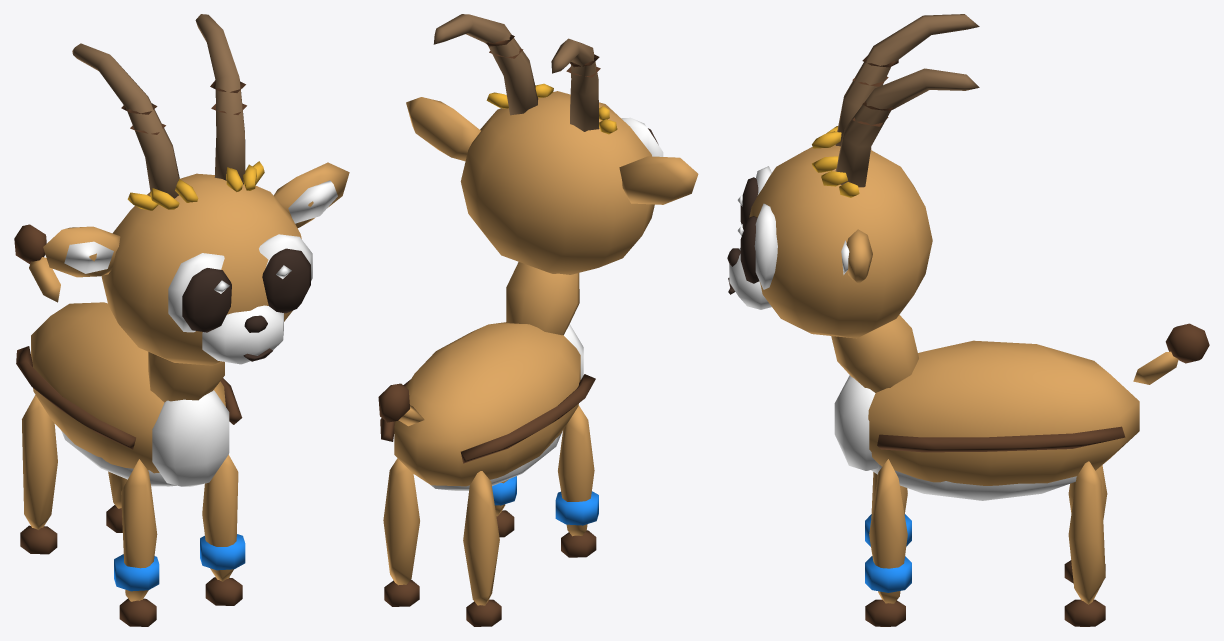
The model's file is compagnon_gazelle.fbx.
3 views of the same model, side by side, from view 1: azimuth 30°, elevation 25°; view 2: azimuth 150°, elevation 25°; view 3: azimuth 270°, elevation 25° (orthographic). The views are drawn at different scales.
Parts seen in each view (by area): view 1: compagnon_gazelle_Fauve, compagnon_gazelle_Blanc, compagnon_gazelle_Cornes, compagnon_gazelle_Brun, compagnon_gazelle_Yeux, compagnon_gazelle_Bandeaux, compagnon_gazelle_Or; view 2: compagnon_gazelle_Fauve, compagnon_gazelle_Brun, compagnon_gazelle_Cornes, compagnon_gazelle_Bandeaux, compagnon_gazelle_Blanc, compagnon_gazelle_Or; view 3: compagnon_gazelle_Fauve, compagnon_gazelle_Cornes, compagnon_gazelle_Blanc, compagnon_gazelle_Brun, compagnon_gazelle_Yeux, compagnon_gazelle_Bandeaux, compagnon_gazelle_Or.
Boxes of the visible parts, x1=… form: compagnon_gazelle_Fauve: x1=22, y1=162, x2=349, y2=601; compagnon_gazelle_Blanc: x1=61, y1=180, x2=337, y2=486; compagnon_gazelle_Cornes: x1=72, y1=14, x2=245, y2=198; compagnon_gazelle_Brun: x1=14, y1=80, x2=246, y2=626; compagnon_gazelle_Yeux: x1=182, y1=248, x2=310, y2=361; compagnon_gazelle_Bandeaux: x1=114, y1=534, x2=245, y2=591; compagnon_gazelle_Or: x1=127, y1=161, x2=264, y2=210; compagnon_gazelle_Fauve: x1=383, y1=91, x2=698, y2=605; compagnon_gazelle_Brun: x1=378, y1=34, x2=600, y2=626; compagnon_gazelle_Cornes: x1=433, y1=14, x2=599, y2=131; compagnon_gazelle_Bandeaux: x1=492, y1=476, x2=598, y2=525; compagnon_gazelle_Blanc: x1=431, y1=117, x2=663, y2=490; compagnon_gazelle_Or: x1=486, y1=83, x2=617, y2=134; compagnon_gazelle_Fauve: x1=749, y1=145, x2=1178, y2=604; compagnon_gazelle_Cornes: x1=835, y1=14, x2=979, y2=187; compagnon_gazelle_Blanc: x1=729, y1=166, x2=1076, y2=500; compagnon_gazelle_Brun: x1=852, y1=56, x2=1209, y2=626; compagnon_gazelle_Yeux: x1=727, y1=177, x2=759, y2=294; compagnon_gazelle_Bandeaux: x1=865, y1=514, x2=911, y2=592; compagnon_gazelle_Or: x1=812, y1=126, x2=859, y2=197.
Bounding box in the file's own units: 1.28 × 2.24 × 1.74.
